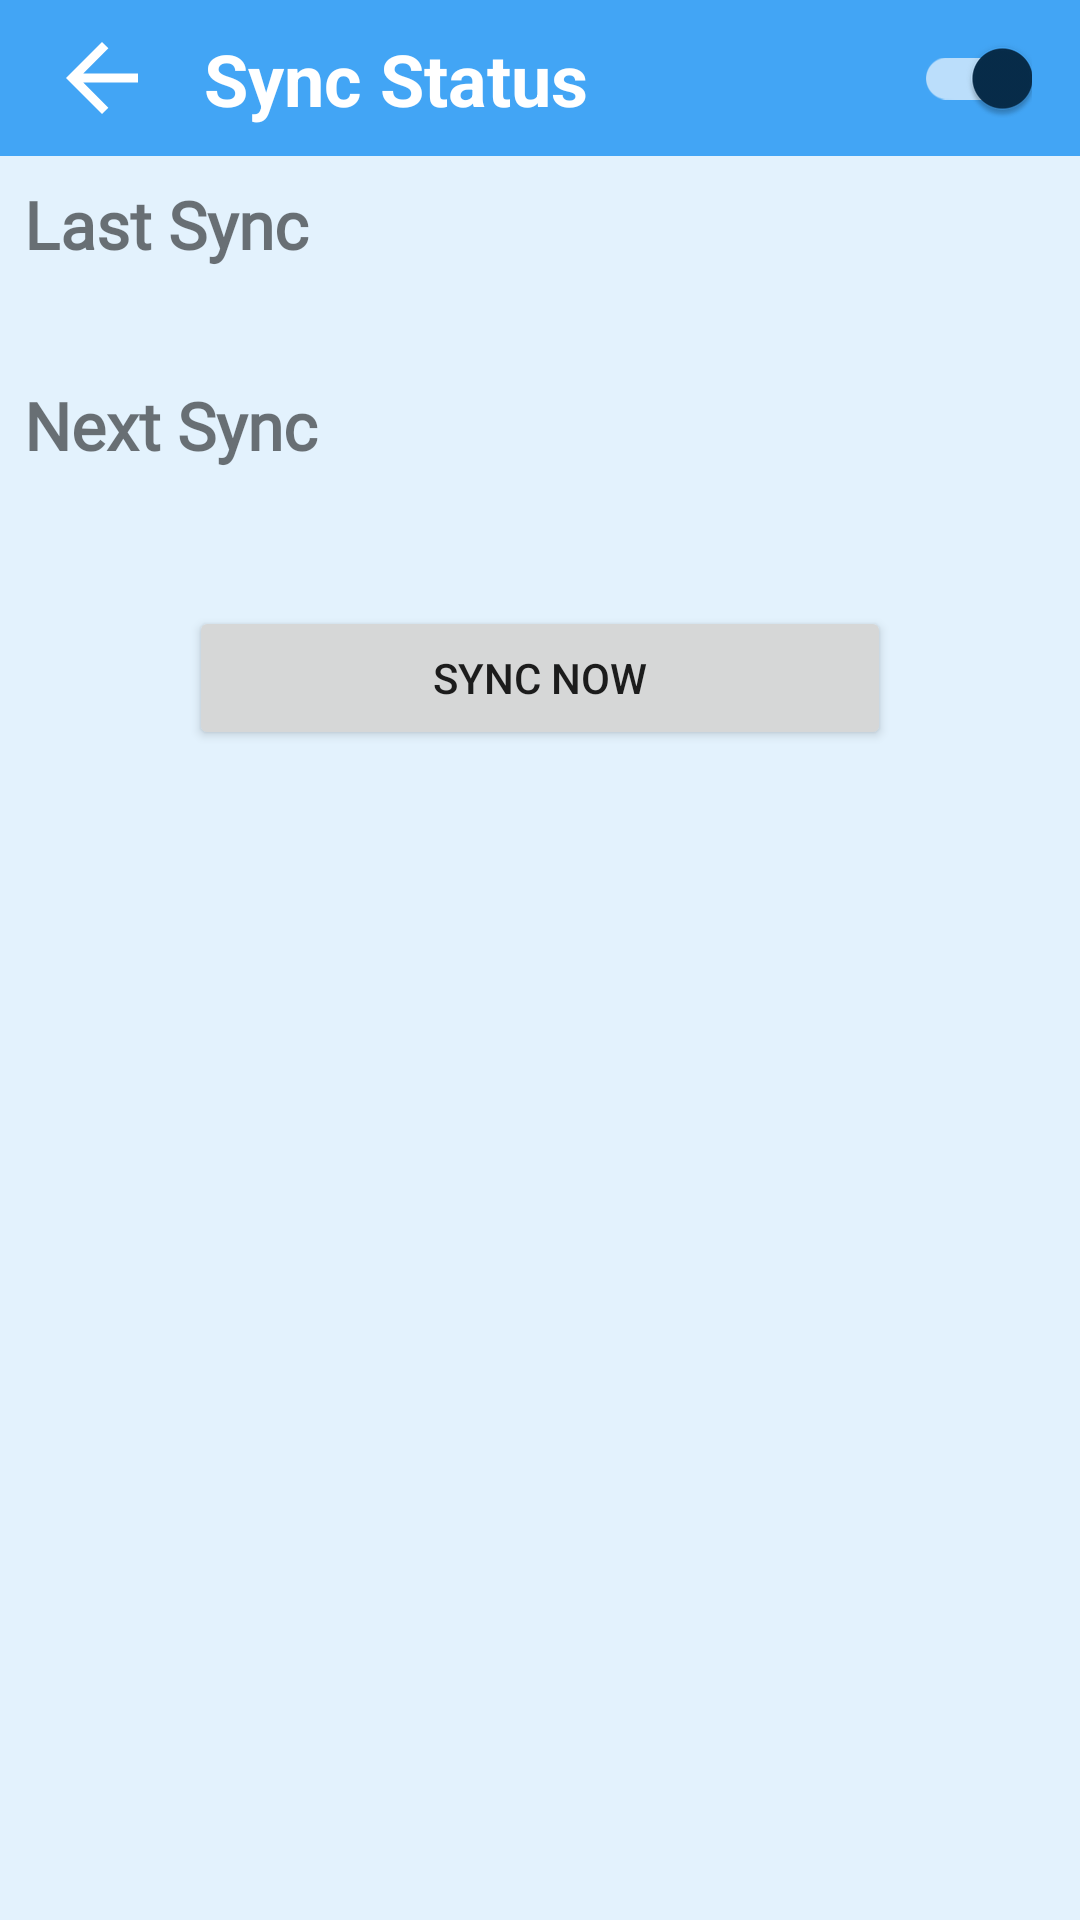

Named icons in this screenshot (1080*1920) and their centers, point (x, y):
arrow back: point (102, 78)
